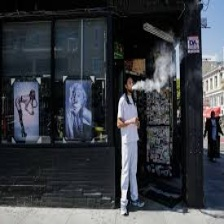smoke: (134, 70, 171, 93)
